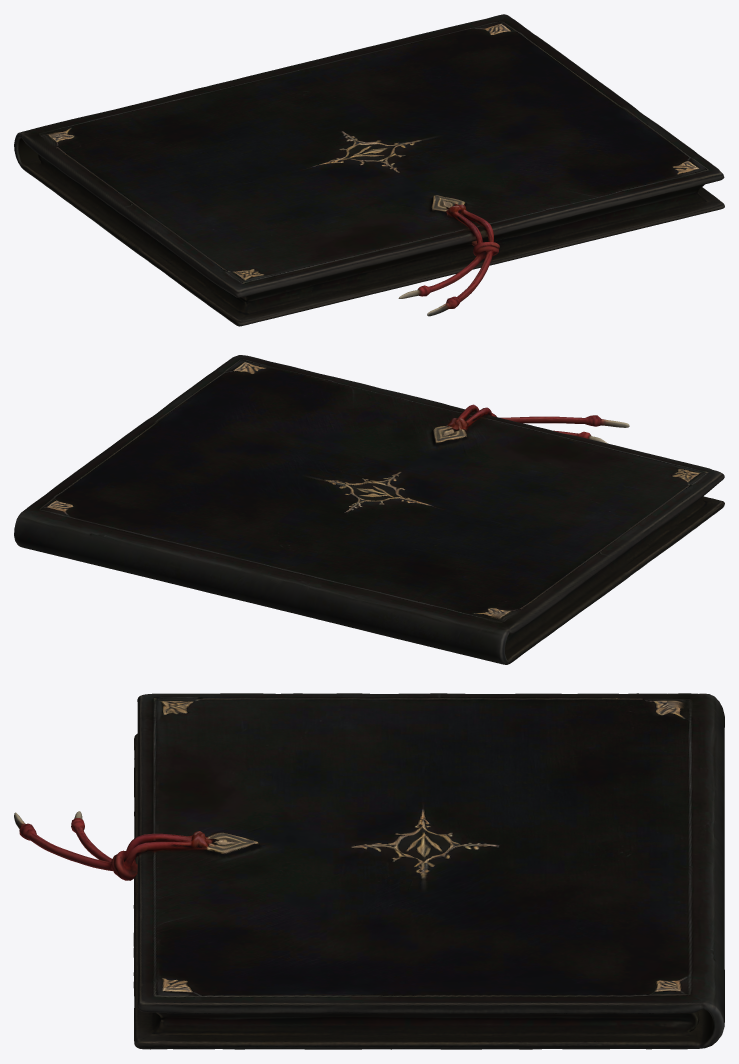
The model's file is classic_paper_envelope.glb.
3 views of the same model, one above another, from view 1: azimuth 30°, elevation 25°; view 2: azimuth 150°, elevation 25°; view 3: azimuth 270°, elevation 25° (orthographic). The views are drawn at different scales.
Parts seen in each view (by area): view 1: model_0; view 2: model_0; view 3: model_0.
Boxes of the visible parts, box(x1,y1,x2,y2) form: model_0: box(14, 14, 724, 326); model_0: box(14, 355, 724, 664); model_0: box(14, 693, 724, 1049).
Bounding box in the file's own units: 1.89 × 0.1717 × 1.82.
1 material, 1 textured.
